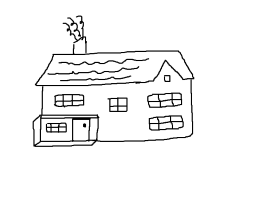closed_window: (142, 113, 186, 134), (143, 89, 187, 107), (99, 94, 136, 112), (50, 92, 87, 109), (44, 122, 68, 135)
door: (64, 111, 95, 145)
roof: (33, 46, 204, 89)
smoking_chimney: (57, 9, 99, 58)
wall: (36, 83, 195, 145)
